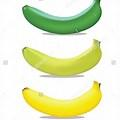banana: (21, 82, 106, 119), (18, 43, 107, 78), (19, 0, 106, 35)
